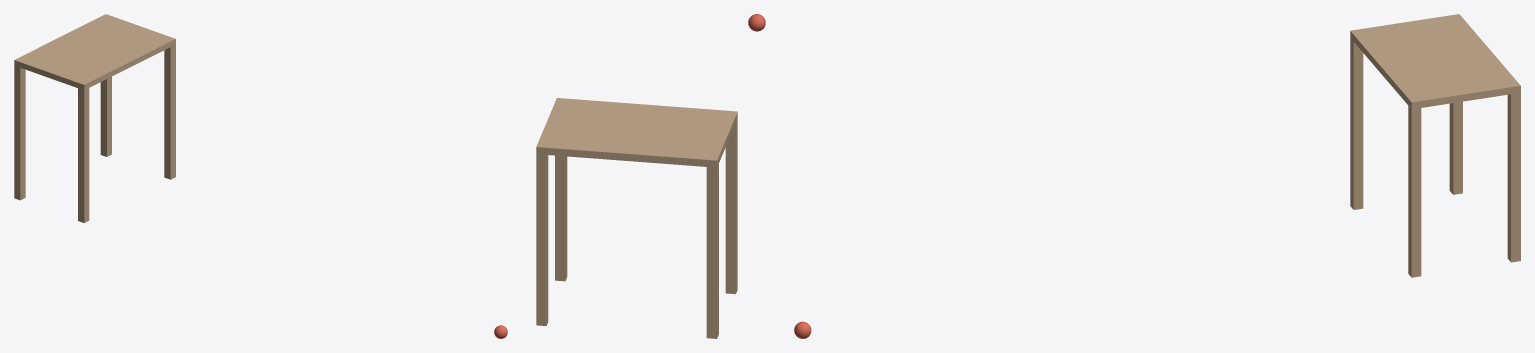
File: hum_17_undertable_props.glb
3 renders of one model, left to right at view 1: azimuth 30°, elevation 25°; view 2: azimuth 150°, elevation 25°; view 3: azimuth 270°, elevation 25°, orthographic. The views are drawn at different scales.
Visible parts, largest first — view 1: s_mesh_00; view 2: s_mesh_00, o00; view 3: s_mesh_00.
Boxes of the visible parts, left/top/right/bottom form: s_mesh_00: left=14, top=14, right=175, bottom=222; s_mesh_00: left=536, top=98, right=737, bottom=338; o00: left=748, top=14, right=765, bottom=31; s_mesh_00: left=1350, top=14, right=1520, bottom=277.
Bounding box in the file's own units: 1.33 × 0.7835 × 2.82.
